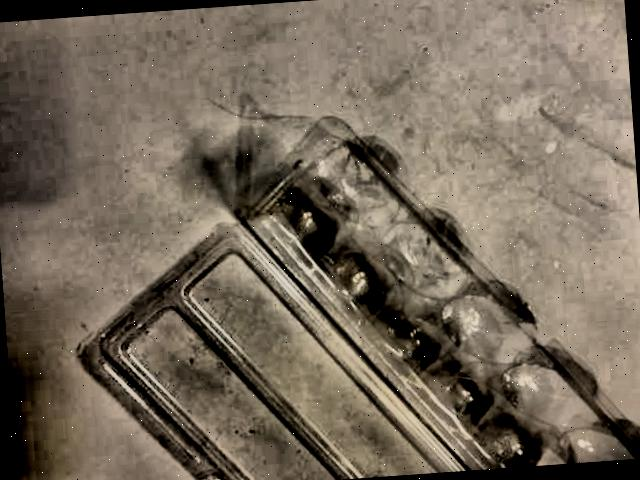Plastic: (54, 81, 640, 480)
